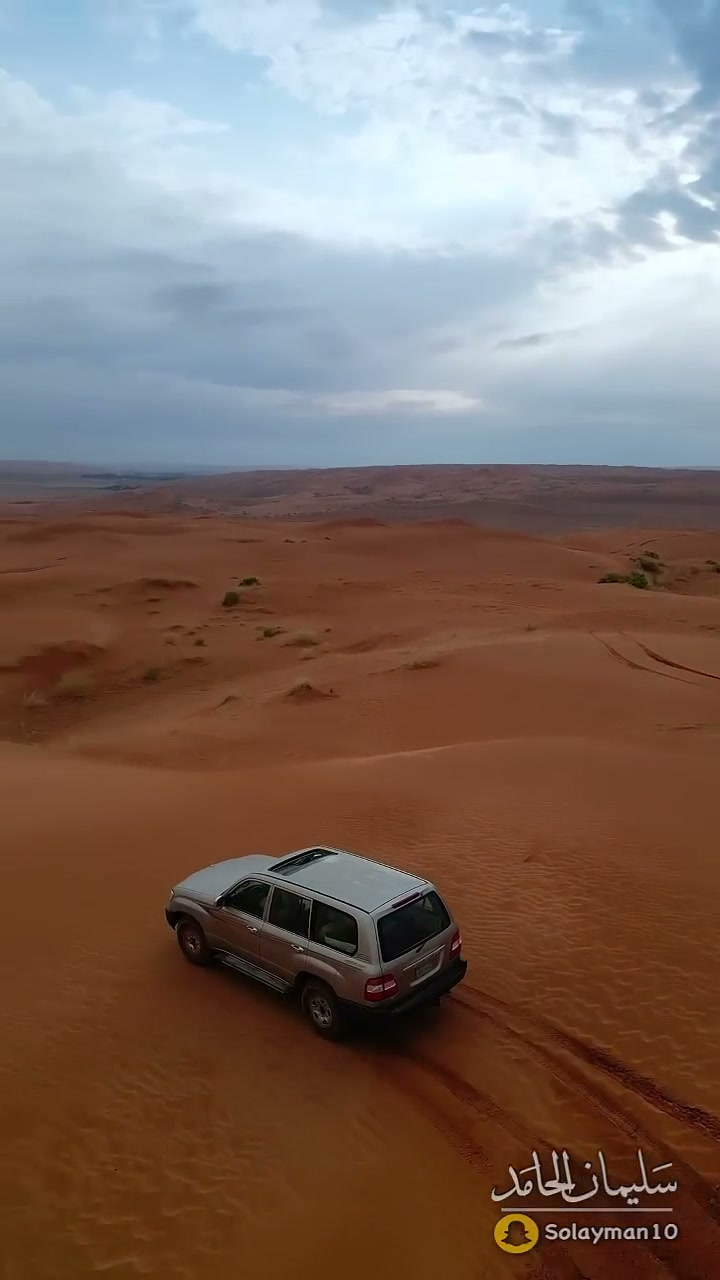vehicle_track: (449, 986, 719, 1279), (590, 632, 698, 687), (635, 639, 719, 680)
